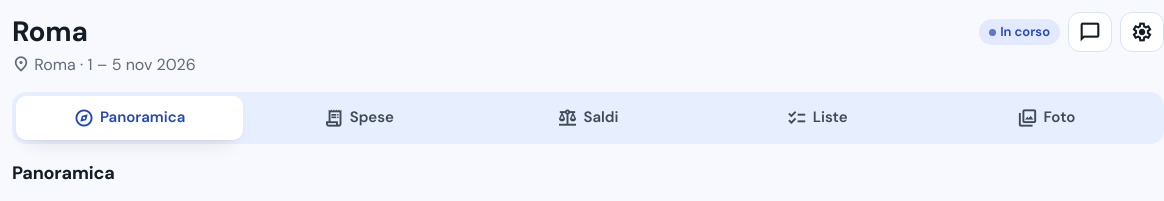
Scenario: le schede del viaggio sono laterali: cambiarle non allunga la strada del ritorno
Step 1. Click the link "Spese" → [359, 118], box [324,106,394,130]
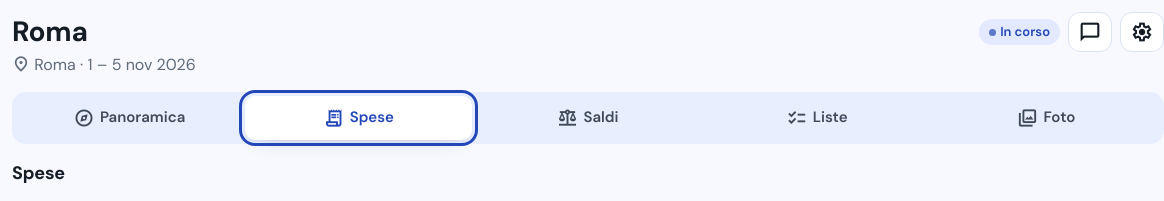
Result: the heading "Spese" is shown at [12,161,65,185]
